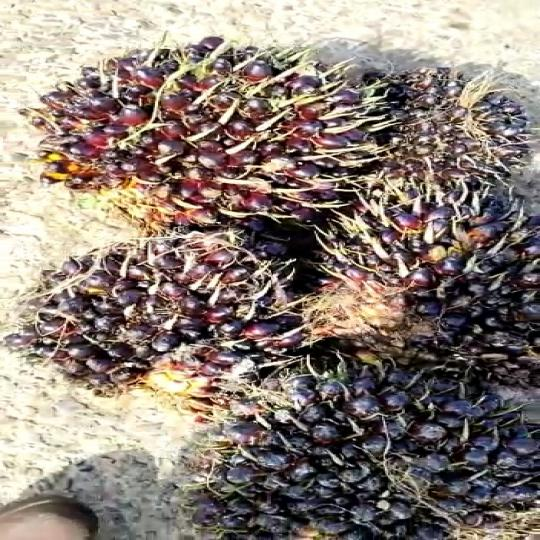kurang masak: (26, 33, 410, 270), (154, 374, 540, 540), (0, 228, 307, 408), (313, 182, 522, 363)
